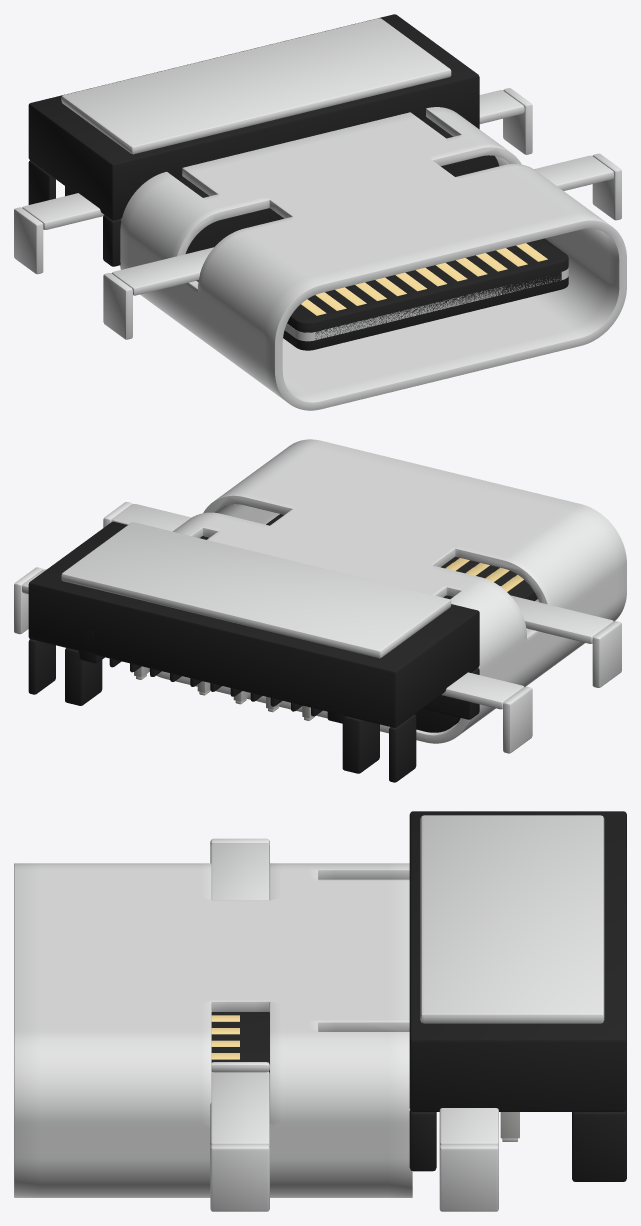
Rendered from J1_GT-USB-7005A.glb.
The picture shows the model from 3 angles, top to bottom: view 1: azimuth 30°, elevation 25°; view 2: azimuth 150°, elevation 25°; view 3: azimuth 270°, elevation 25°; orthographic projection. The views are drawn at different scales.
Parts seen in each view (by area): view 1: J1_SHELL_stainless_Ni, J1_GROUNDPLATE_stainless_Ni, J1_HOUSING_LCP_black, J1_LEGS_stainless_Ni_x4, J1_TONGUE_LCP, J1_CONTACTS_rowA_Au, J1_TERMINALBLOCK_LCP, J1_MIDPLATE_stainless; view 2: J1_SHELL_stainless_Ni, J1_HOUSING_LCP_black, J1_GROUNDPLATE_stainless_Ni, J1_LEGS_stainless_Ni_x4, J1_TONGUE_LCP, J1_TERMINALBLOCK_LCP, J1_PINS_throughhole_x12, J1_CONTACTS_rowA_Au; view 3: J1_SHELL_stainless_Ni, J1_GROUNDPLATE_stainless_Ni, J1_HOUSING_LCP_black, J1_LEGS_stainless_Ni_x4, J1_TONGUE_LCP, J1_CONTACTS_rowA_Au, J1_PINS_throughhole_x12.
Part boxes in pixels (box(x1,y1,x2,y2)): J1_SHELL_stainless_Ni: box(120, 107, 626, 410); J1_GROUNDPLATE_stainless_Ni: box(61, 18, 451, 154); J1_HOUSING_LCP_black: box(28, 14, 479, 266); J1_LEGS_stainless_Ni_x4: box(14, 88, 621, 339); J1_TONGUE_LCP: box(206, 238, 568, 350); J1_CONTACTS_rowA_Au: box(301, 243, 547, 315); J1_TERMINALBLOCK_LCP: box(177, 118, 498, 281); J1_MIDPLATE_stainless: box(284, 266, 568, 341); J1_SHELL_stainless_Ni: box(149, 439, 626, 743); J1_HOUSING_LCP_black: box(28, 521, 479, 782); J1_GROUNDPLATE_stainless_Ni: box(61, 522, 451, 658); J1_LEGS_stainless_Ni_x4: box(14, 502, 621, 753); J1_TONGUE_LCP: box(266, 514, 537, 601); J1_TERMINALBLOCK_LCP: box(200, 536, 460, 732); J1_PINS_throughhole_x12: box(134, 666, 380, 728); J1_CONTACTS_rowA_Au: box(445, 558, 523, 591); J1_SHELL_stainless_Ni: box(14, 863, 412, 1197); J1_GROUNDPLATE_stainless_Ni: box(420, 815, 604, 1023); J1_HOUSING_LCP_black: box(409, 811, 626, 1181); J1_LEGS_stainless_Ni_x4: box(210, 838, 498, 1211); J1_TONGUE_LCP: box(211, 1012, 269, 1072); J1_CONTACTS_rowA_Au: box(211, 1015, 239, 1059); J1_PINS_throughhole_x12: box(500, 1112, 519, 1141).
Size of the model in its own units: 12.35 by 3.64 by 10.3.
